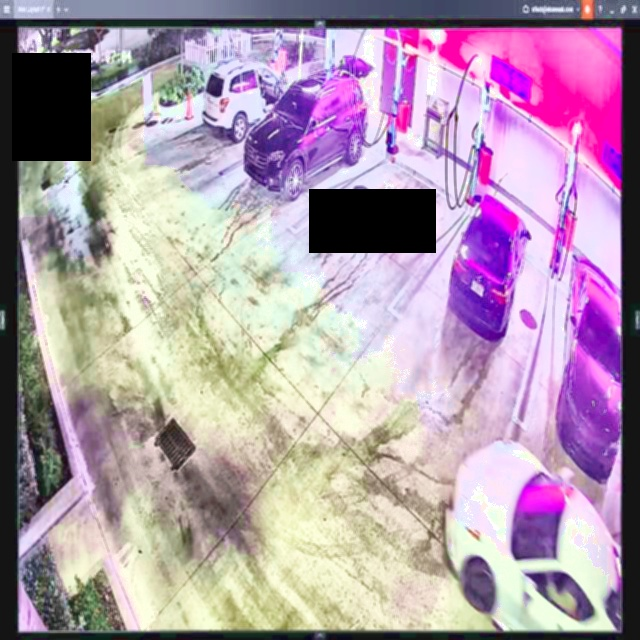Car: (445, 441, 620, 634), (243, 61, 367, 197), (448, 195, 530, 334)
